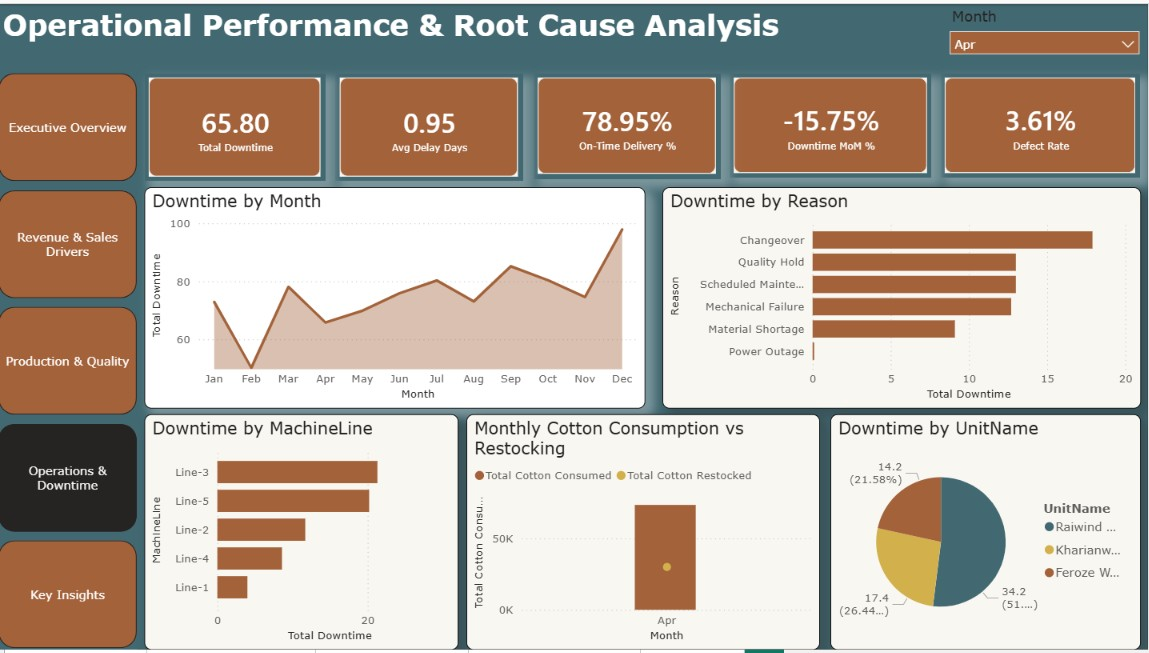

The dashboard page shown, as its layout file describes it:
{"tool":"powerbi","page":{"name":"Operations & Downtime","canvas":[1280,720],"ordinal":3},"visuals":[{"type":"pageNavigator","box":[0,194.8,145.7,524.9],"z":0},{"type":"slicer","fields":{"Values":["Date.Month"]},"box":[7.1,94.3,138.3,92.2],"z":1000},{"type":"cardVisual","fields":{"Data":["measure.defect_rate"]},"box":[1058.1,74,221.6,129],"z":2000},{"type":"cardVisual","fields":{"Data":["measure.Downtime MoM %"]},"box":[845.2,75.4,224.4,129],"z":3000},{"type":"cardVisual","fields":{"Data":["measure.Avg Delay Days"]},"box":[386.7,74,234.2,129],"z":4000},{"type":"cardVisual","fields":{"Data":["measure.Total Downtime"]},"box":[145.5,75.4,242.6,126.2],"z":5000},{"type":"cardVisual","fields":{"Data":["measure.On-Time Delivery %"]},"box":[620.9,75.4,237,129],"z":6000},{"type":"lineChart","title":"Downtime by Month","fields":{"Y":["measure.Total Downtime"],"Category":["Date.Month"]},"box":[162.3,194.8,557.1,255.8],"z":7000},{"type":"clusteredBarChart","title":"Downtime by Reason","fields":{"Y":["measure.Total Downtime"],"Category":["Fact_Downtime.Reason"]},"box":[739,194.8,532.5,255.8],"z":8000},{"type":"clusteredBarChart","title":"Downtime by MachineLine","fields":{"Y":["measure.Total Downtime"],"Category":["Fact_Downtime.MachineLine"]},"box":[162.3,457.1,349.4,262.3],"z":9000},{"type":"lineClusteredColumnComboChart","title":"Monthly Cotton Consumption vs Restocking","fields":{"Category":["Date.Month"],"Y":["measure.Total Cotton Consumed"],"Y2":["measure.Total Cotton Restocked"]},"box":[520.8,457.1,393.5,262.3],"z":10000},{"type":"pieChart","title":"Downtime by UnitName","fields":{"Category":["Dim_Units.UnitName"],"Y":["measure.Total Downtime"]},"box":[926,457.1,345.5,262.3],"z":11000},{"type":"textbox","box":[0,0,1280.3,84.8],"z":12000}]}

Visuals, with their boxes in screenshot pixels (x1, y1, x2, y2), scaled from the page's 1280x720 canvas onto the 1149x653 screenshot:
pageNavigator: bbox=[0, 177, 131, 652]
slicer - Date.Month: bbox=[6, 86, 131, 169]
cardVisual - measure.defect_rate: bbox=[950, 67, 1148, 184]
cardVisual - measure.Downtime MoM %: bbox=[759, 68, 960, 185]
cardVisual - measure.Avg Delay Days: bbox=[347, 67, 557, 184]
cardVisual - measure.Total Downtime: bbox=[131, 68, 348, 183]
cardVisual - measure.On-Time Delivery %: bbox=[557, 68, 770, 185]
"Downtime by Month" lineChart: bbox=[146, 177, 646, 409]
"Downtime by Reason" clusteredBarChart: bbox=[663, 177, 1141, 409]
"Downtime by MachineLine" clusteredBarChart: bbox=[146, 415, 459, 652]
"Monthly Cotton Consumption vs Restocking" lineClusteredColumnComboChart: bbox=[467, 415, 821, 652]
"Downtime by UnitName" pieChart: bbox=[831, 415, 1141, 652]
textbox: bbox=[0, 0, 1148, 77]
